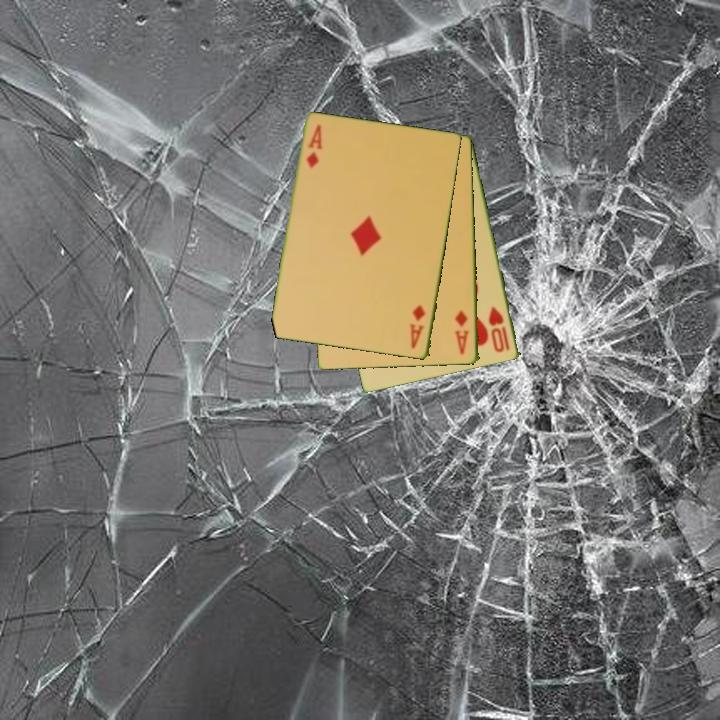10h: (485, 303, 513, 355)
Ad: (303, 121, 325, 172), (407, 301, 428, 352), (452, 308, 472, 358)
